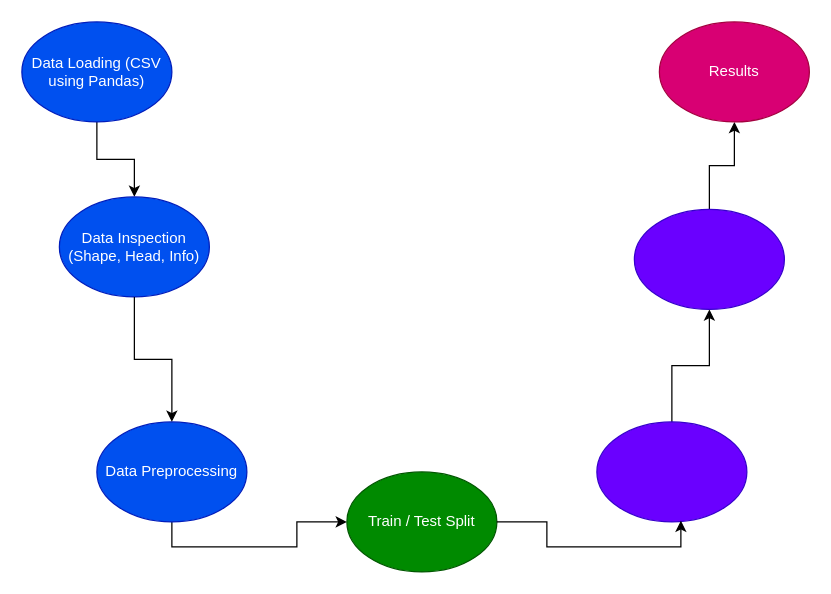
The diagram is 831 pixels wide and 594 high, and some of its shapes have lost their labels. The shapes that lost their labels are listed below. From the top down, each one's centre as x and y in pixels, then its label:
At [708,258]: "Model Evaluation".
At [671,471]: "Regression Model Training".
